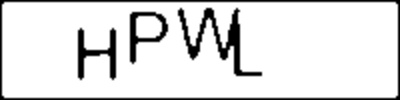H: (72, 24, 122, 82)
L: (231, 21, 264, 78)
P: (126, 9, 172, 66)
W: (175, 6, 241, 61)
